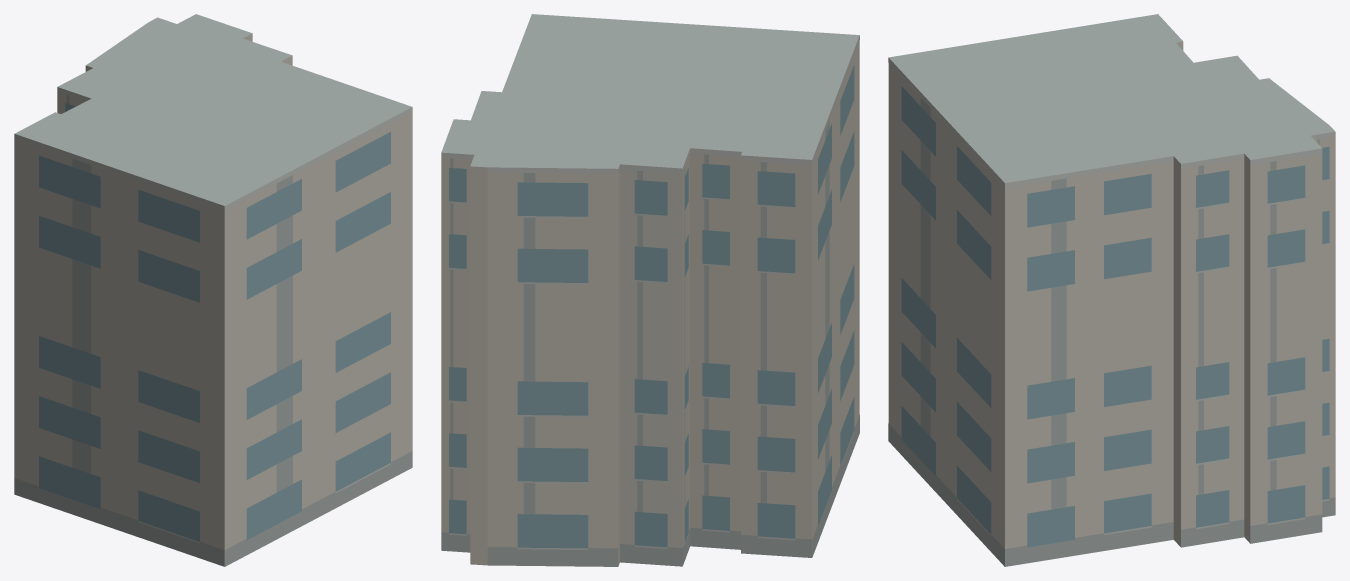
Rendered from survey-upis-32837505.glb.
The picture shows the model from 3 angles, left to right: view 1: azimuth 30°, elevation 25°; view 2: azimuth 150°, elevation 25°; view 3: azimuth 270°, elevation 25°; orthographic projection. The views are drawn at different scales.
Parts seen in each view (by area): view 1: survey-upis-32837505.tmp; view 2: survey-upis-32837505.tmp; view 3: survey-upis-32837505.tmp.
Boxes of the visible parts, <box> form: survey-upis-32837505.tmp: <box>14,14,412,566</box>; survey-upis-32837505.tmp: <box>441,14,859,566</box>; survey-upis-32837505.tmp: <box>888,14,1335,566</box>.
Bounding box in the file's own units: 17.32 × 18.3 × 19.33.
